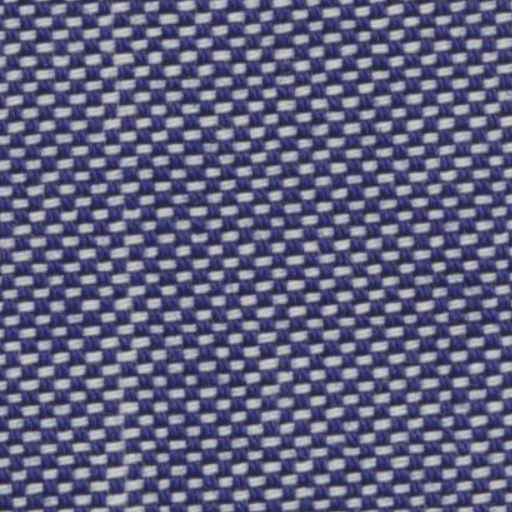TuoSha: (72, 14, 157, 502)
